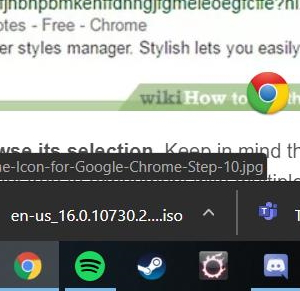chrome: (246, 70, 289, 115), (13, 251, 41, 280)
